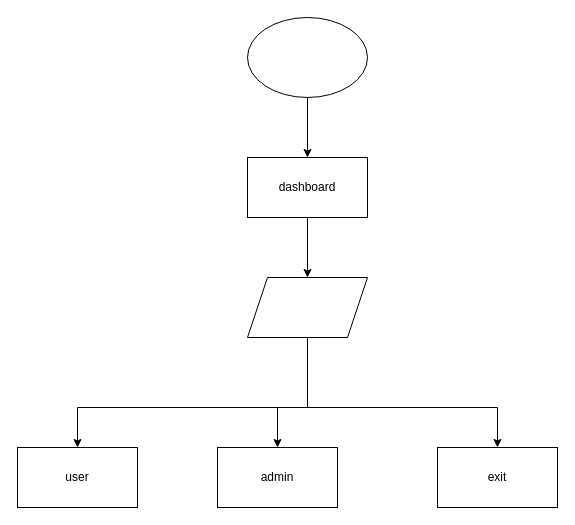
Some shapes in this 575 by 525 pixel diagram are drawn without their labels. The shapes that lost their labels are listed below. From the top down, each one's centre as x and y in pixels, then its label:
At pixel 307 57: "start".
At pixel 307 307: "select".
